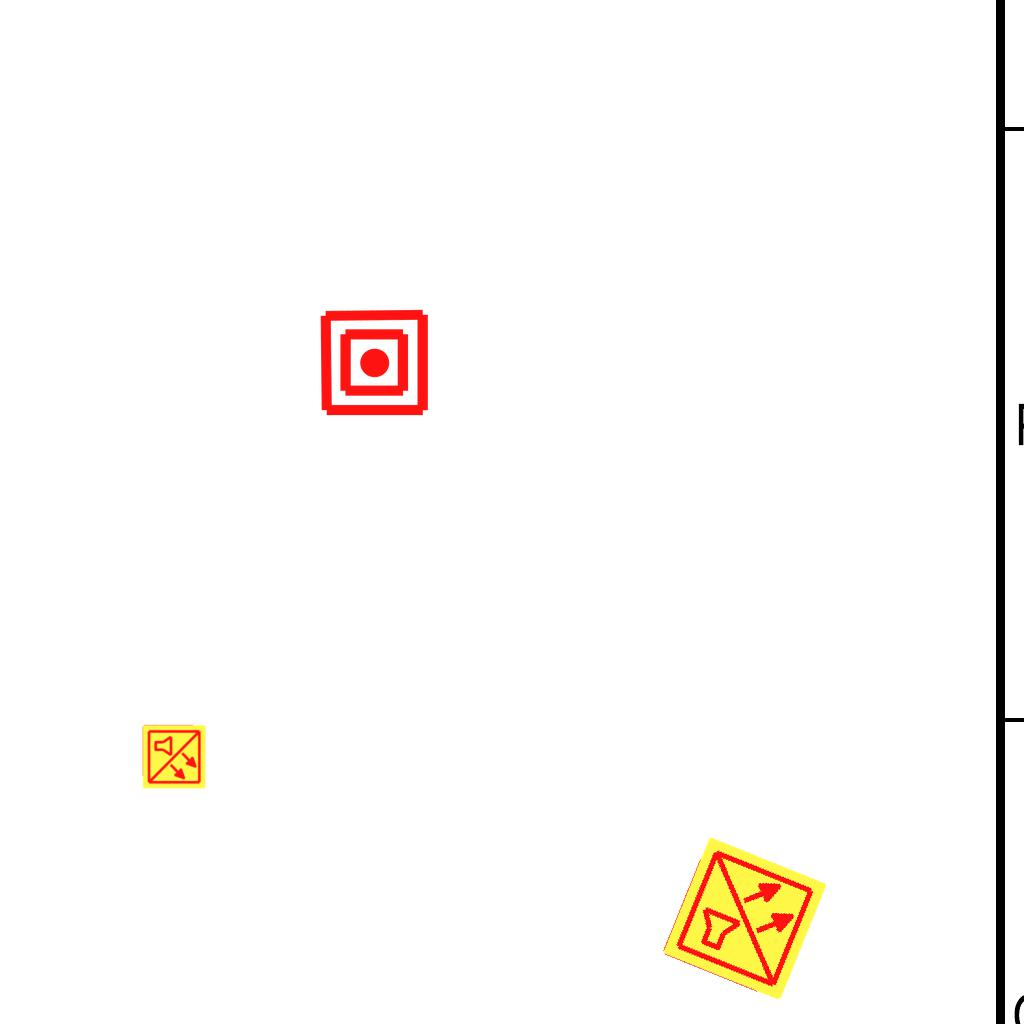NAM-Nichtautomatischer_Melder: (318, 306, 431, 419)
OKW_Multisensormelder_(Kombination_optischer_Rauch-Kahlenmonoxid_Waerme-Melder): (659, 833, 831, 1005), (141, 724, 207, 790)
